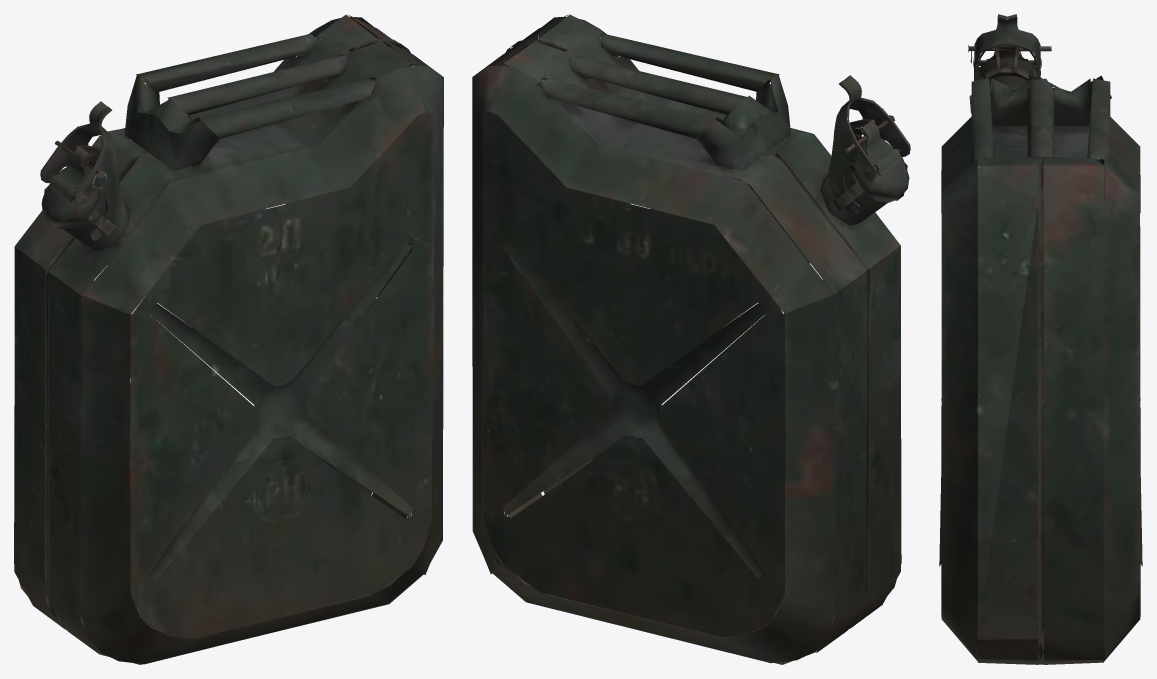
The model's file is metal_jerrycan_green.glb.
3 renders of one model, left to right at view 1: azimuth 30°, elevation 25°; view 2: azimuth 150°, elevation 25°; view 3: azimuth 270°, elevation 25°, orthographic. The views are drawn at different scales.
Parts seen in each view (by area): view 1: metal_jerrycan_green_body, metal_jerrycan_green_latch, metal_jerrycan_green_cap; view 2: metal_jerrycan_green_body, metal_jerrycan_green_latch, metal_jerrycan_green_cap; view 3: metal_jerrycan_green_body, metal_jerrycan_green_latch, metal_jerrycan_green_cap, metal_jerrycan_green_fastener.
Boxes of the visible parts, x1=… form: metal_jerrycan_green_body: x1=14, y1=14, x2=443, y2=664; metal_jerrycan_green_latch: x1=40, y1=101, x2=122, y2=240; metal_jerrycan_green_cap: x1=41, y1=147, x2=101, y2=228; metal_jerrycan_green_body: x1=472, y1=14, x2=901, y2=664; metal_jerrycan_green_latch: x1=828, y1=75, x2=910, y2=214; metal_jerrycan_green_cap: x1=849, y1=120, x2=909, y2=202; metal_jerrycan_green_body: x1=939, y1=75, x2=1142, y2=664; metal_jerrycan_green_latch: x1=973, y1=14, x2=1041, y2=80; metal_jerrycan_green_cap: x1=977, y1=44, x2=1037, y2=80; metal_jerrycan_green_fastener: x1=985, y1=46, x2=1029, y2=80.
Bounding box in the file's own units: 0.3613 × 0.5 × 0.1751.
1 material, 1 textured.
